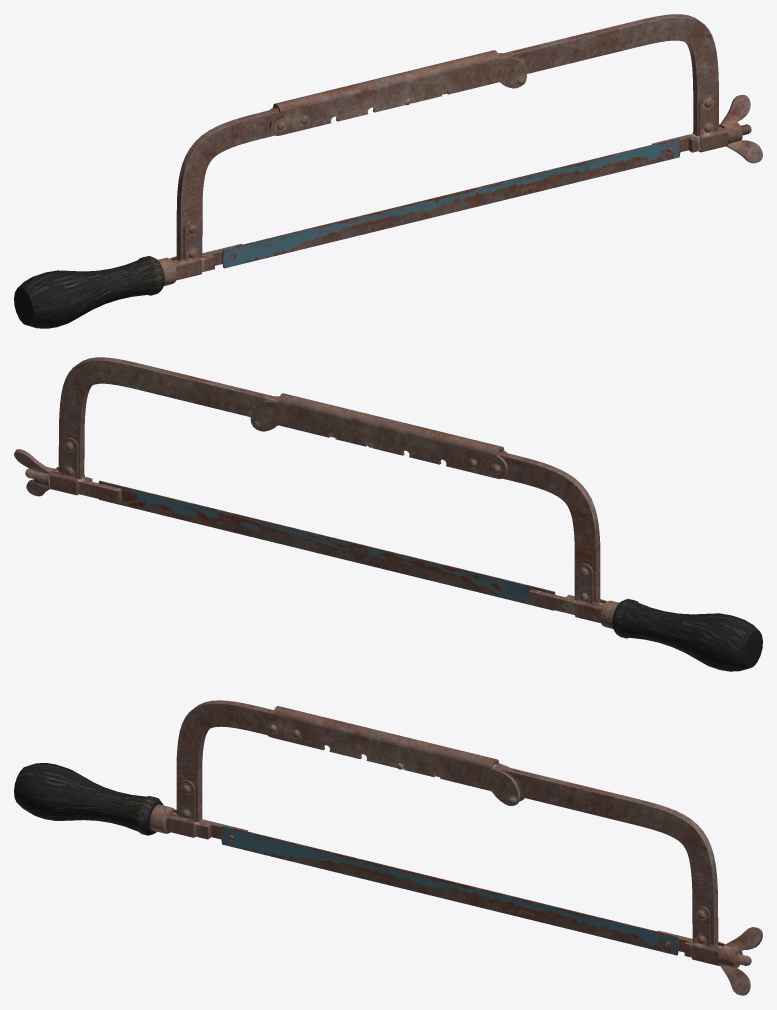
3 renders of one model, top to bottom at view 1: azimuth 30°, elevation 25°; view 2: azimuth 150°, elevation 25°; view 3: azimuth 330°, elevation 25°, orthographic.
Parts seen in each view (by area): view 1: rusted_hacksaw; view 2: rusted_hacksaw; view 3: rusted_hacksaw.
Boxes of the visible parts, bbox=[...] form: rusted_hacksaw: bbox=[14, 14, 762, 328]; rusted_hacksaw: bbox=[14, 357, 762, 671]; rusted_hacksaw: bbox=[14, 700, 762, 995].
Size of the model in its own units: 0.4964 by 0.1094 by 0.0328.
1 material, 1 textured.
